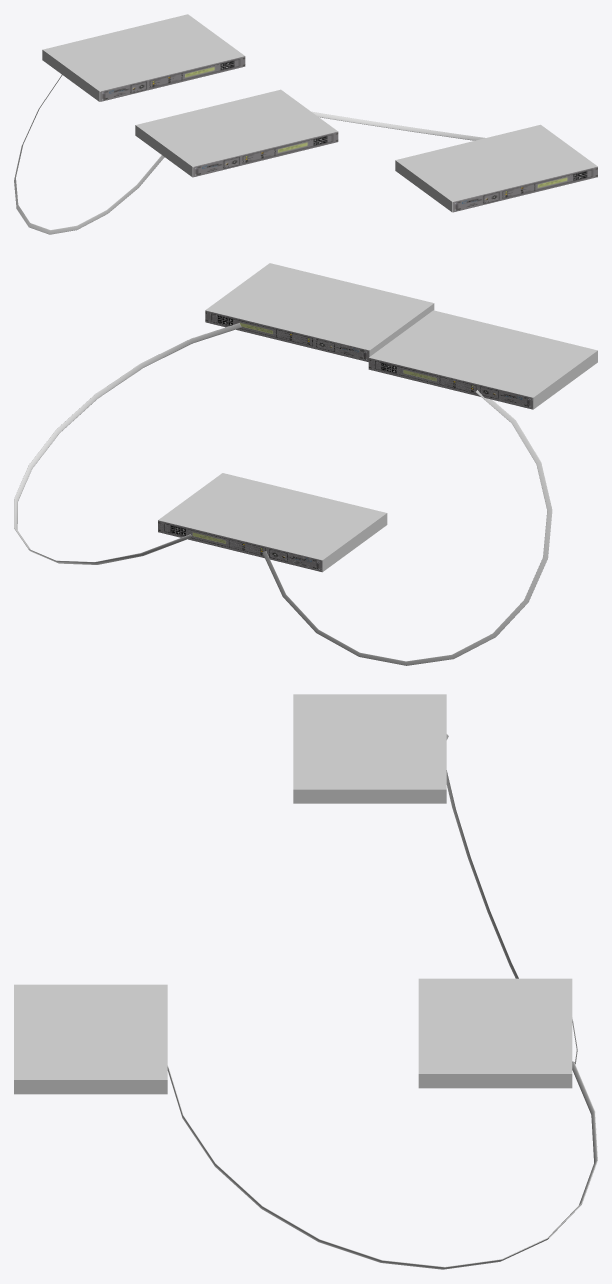
File: 三个UPC.dae
The picture shows the model from 3 angles, top to bottom: view 1: azimuth 30°, elevation 25°; view 2: azimuth 150°, elevation 25°; view 3: azimuth 270°, elevation 25°; orthographic projection. The views are drawn at different scales.
Visible parts, largest first — view 1: 上变频器 (×6), SketchUp (×2); view 2: 上变频器 (×6), SketchUp (×2); view 3: 上变频器 (×3), SketchUp (×2).
Part boxes in pixels (left/top/right/bottom): 上变频器 (×6): left=42, top=14, right=597, bottom=212; SketchUp (×2): left=14, top=75, right=485, bottom=234; 上变频器 (×6): left=158, top=263, right=597, bottom=572; SketchUp (×2): left=14, top=323, right=552, bottom=665; 上变频器 (×3): left=14, top=694, right=572, bottom=1094; SketchUp (×2): left=167, top=734, right=597, bottom=1269.
Bounding box in the file's own units: 95.66 × 73.37 × 42.19.
